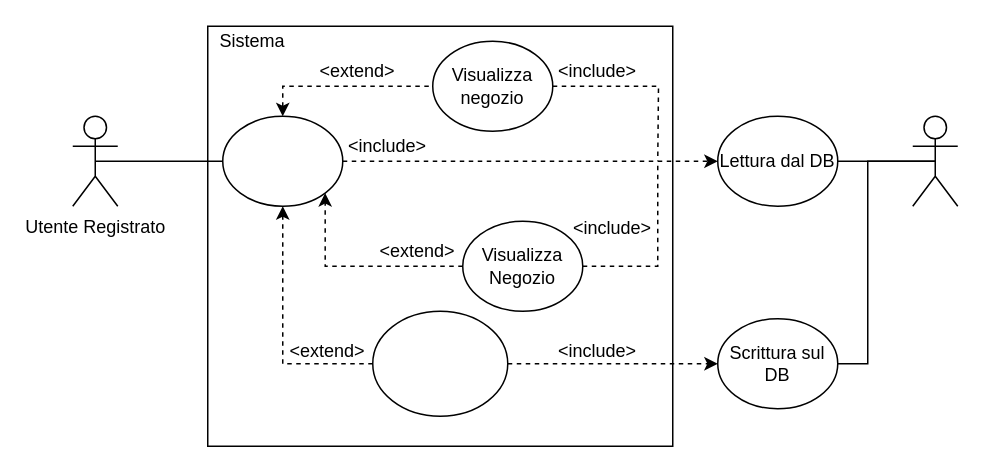
The diagram is 996 pixels wide and 473 high, and some of its shapes have lost their labels. Each missing label, with the centre of its shape:
Apri lista prefeti: point 282,160
MariaDB: point 934,160
Rimuovi elemento dai preferiti: point 439,363
